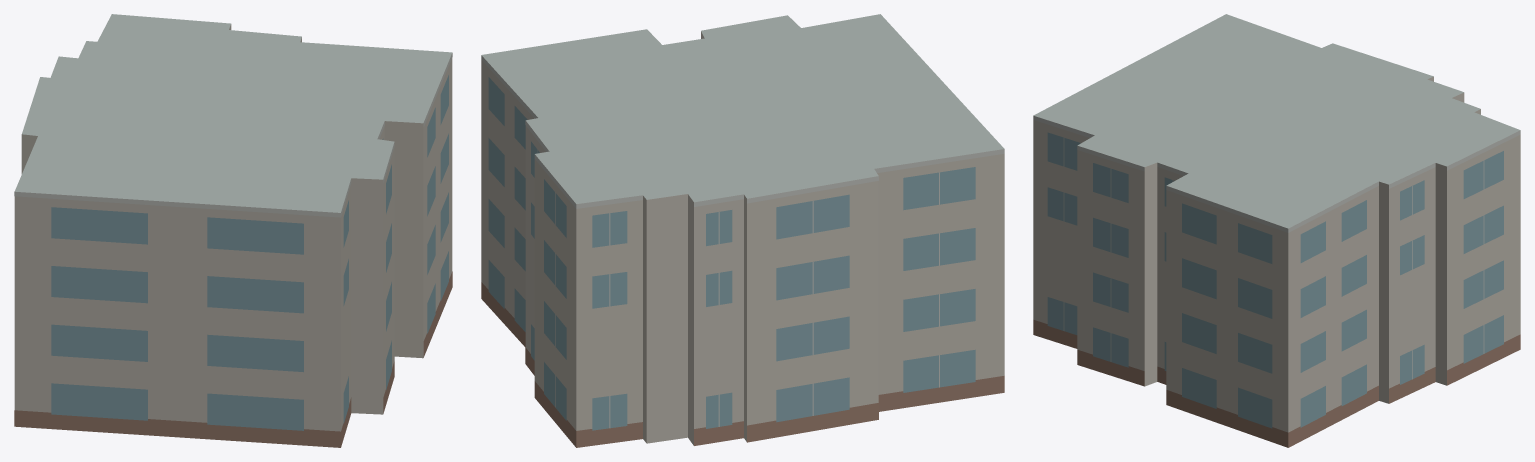
Rendered from survey-upis-32526356.glb.
3 renders of one model, left to right at view 1: azimuth 30°, elevation 25°; view 2: azimuth 150°, elevation 25°; view 3: azimuth 270°, elevation 25°, orthographic. The views are drawn at different scales.
Visible parts, largest first — view 1: survey-upis-32526356.tmp; view 2: survey-upis-32526356.tmp; view 3: survey-upis-32526356.tmp.
Part boxes in pixels (x1,y1,x2,y2): survey-upis-32526356.tmp: [14, 14, 452, 447]; survey-upis-32526356.tmp: [481, 14, 1004, 447]; survey-upis-32526356.tmp: [1033, 14, 1520, 447].
Bounding box in the file's own units: 26.25 × 12.5 × 25.19.
